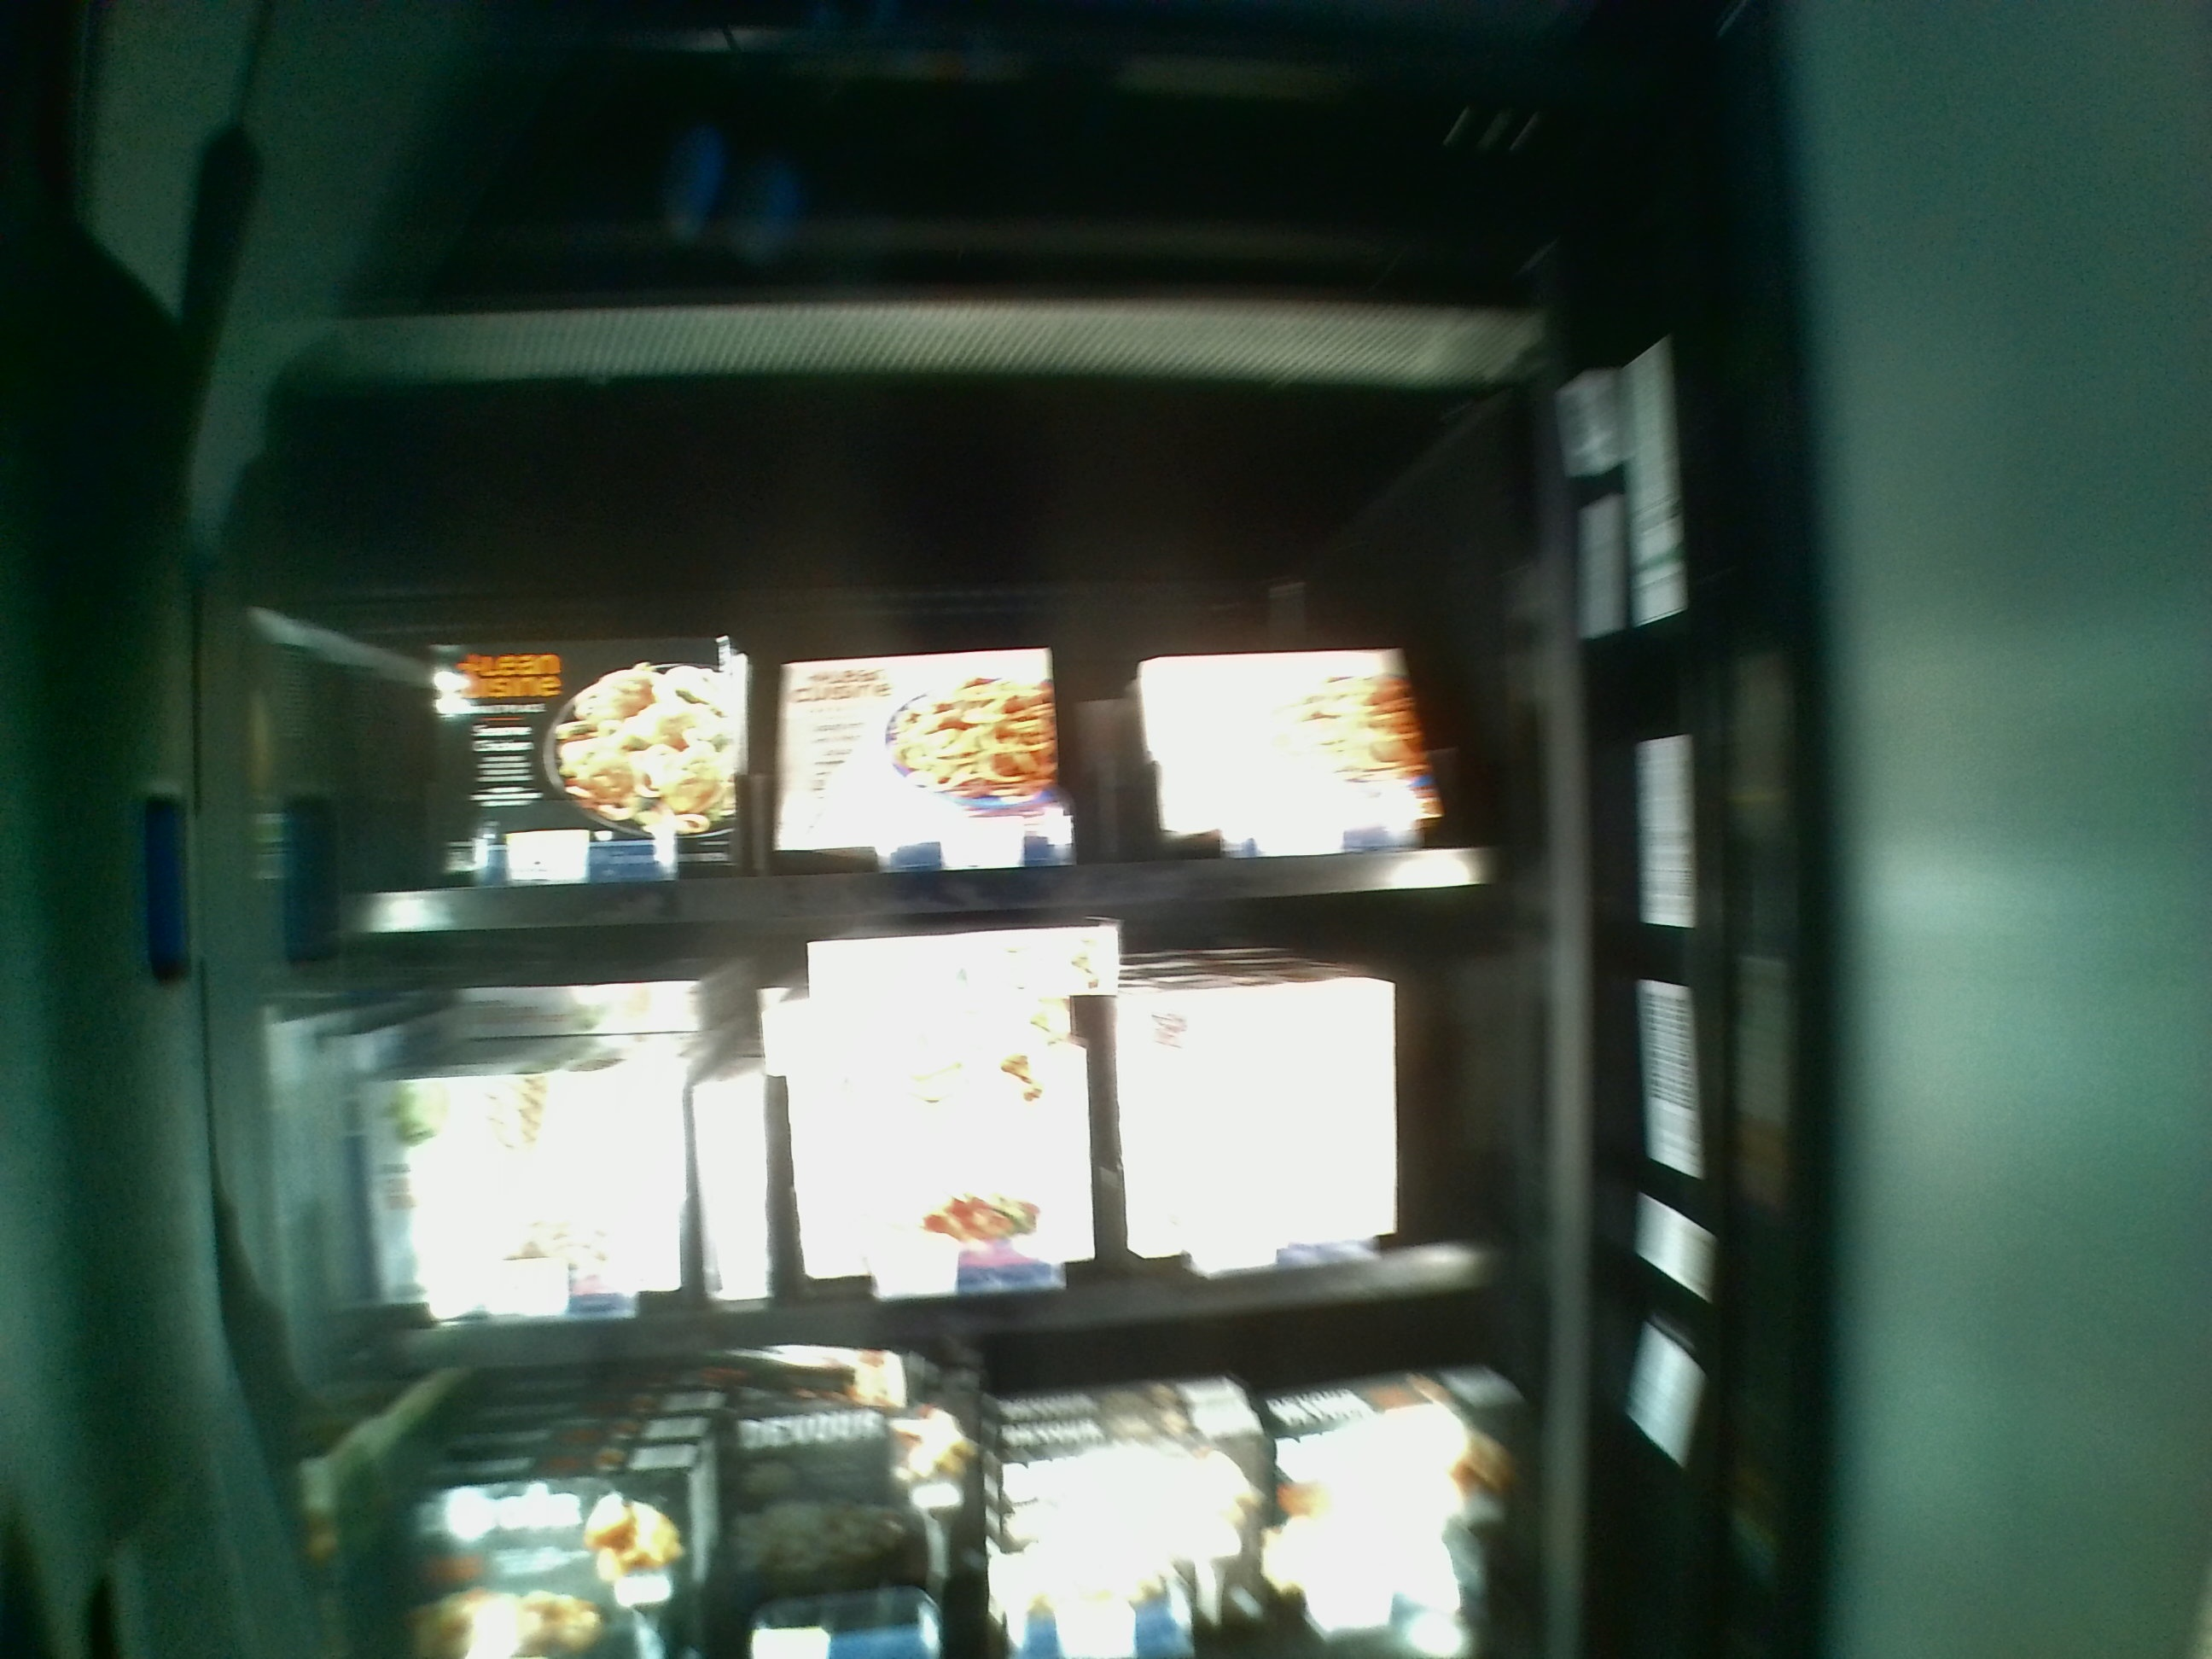shelf: (359, 945, 1505, 1368), (331, 535, 1505, 932)
